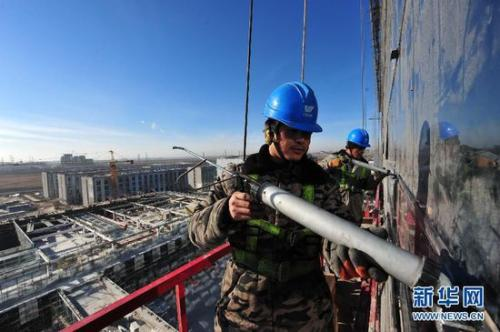hard-hat: (263, 80, 322, 133), (347, 128, 370, 148)
person: (187, 81, 367, 332), (322, 128, 385, 227)
